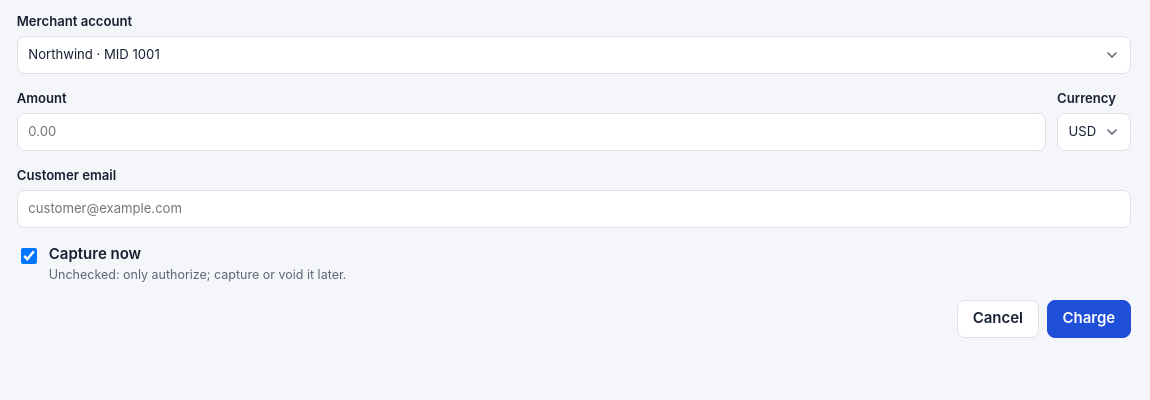
it: CreateChargeDialog › asks for missing fields when the form is empty
This screenshot has width=1150, height=400.
Click the button "Charge" at (1089, 319), box [1046,300,1131,338]
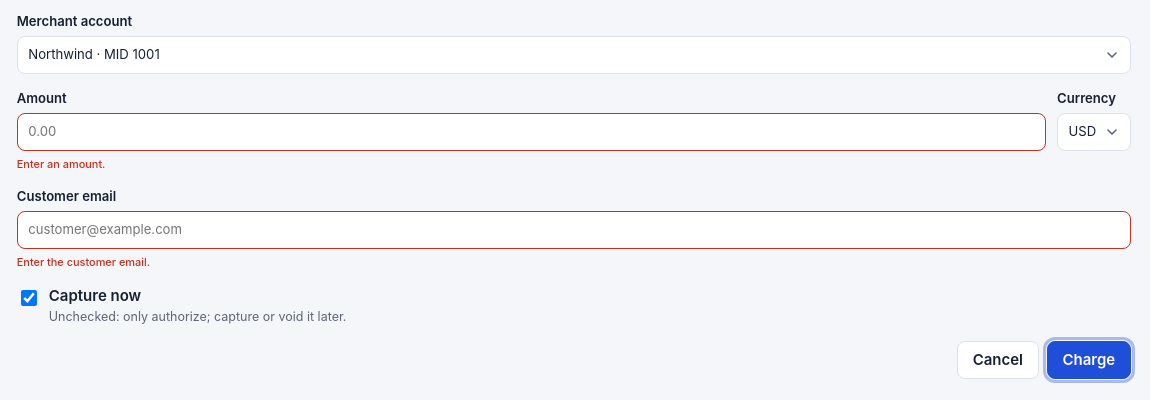
Result: the text "Enter an amount." is shown at [17,157,106,171]
Result: the text "Enter the customer email." is shown at [17,255,150,269]
